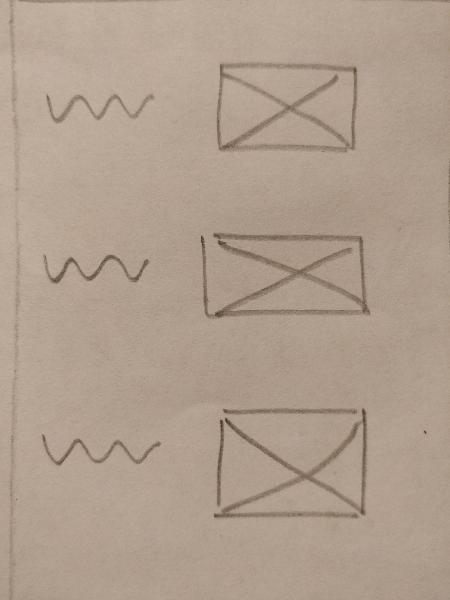image: (205, 401, 375, 528), (194, 220, 378, 329), (207, 50, 364, 163)
text: (33, 416, 167, 474), (38, 73, 159, 136), (36, 230, 157, 293)
